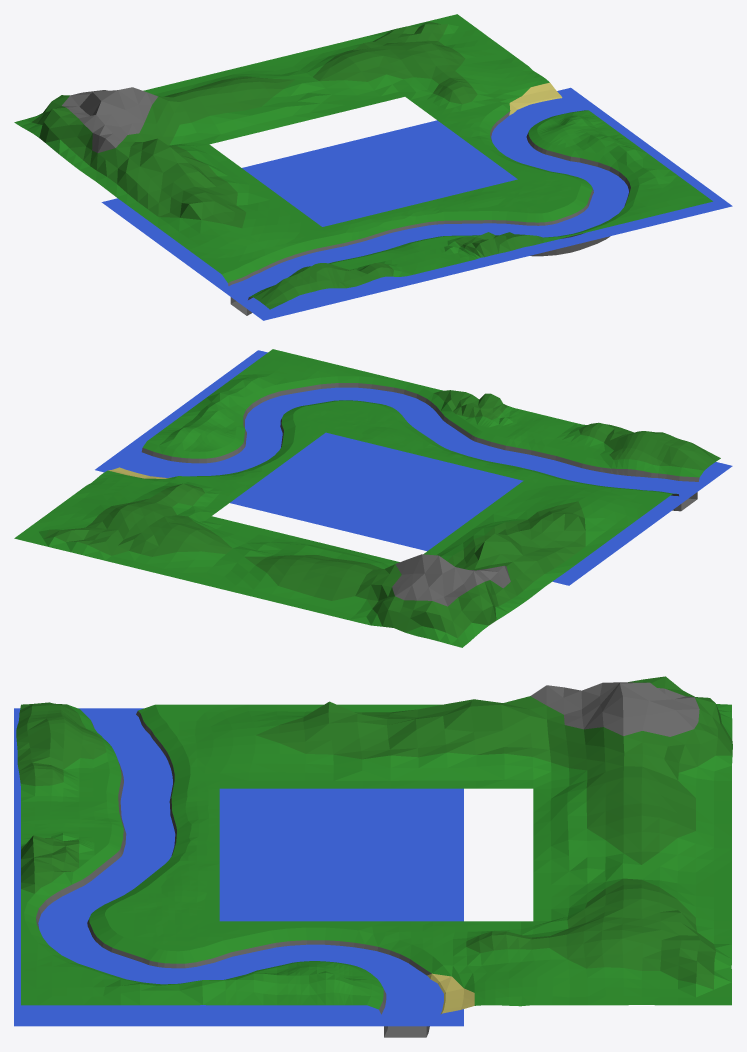
File: scenery.glb
3 renders of one model, top to bottom at view 1: azimuth 30°, elevation 25°; view 2: azimuth 150°, elevation 25°; view 3: azimuth 270°, elevation 25°, orthographic. The views are drawn at different scales.
Parts seen in each view (by area): view 1: Ground, Water Plane; view 2: Ground, Water Plane; view 3: Ground, Water Plane.
Boxes of the visible parts, <box> form: Ground: <box>14,14,712,315</box>; Water Plane: <box>101,87,732,320</box>; Ground: <box>14,349,720,647</box>; Water Plane: <box>95,350,732,585</box>; Ground: <box>16,676,732,1037</box>; Water Plane: <box>14,708,463,1026</box>.
Bounding box in the file's own units: 180 × 25.51 × 172.
